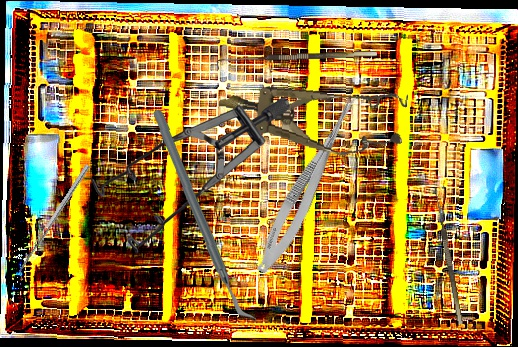Chopper: (148, 110, 260, 322)
Hook Surgical: (425, 185, 464, 327), (216, 50, 378, 71)
Micro Scissor: (250, 82, 367, 279)
Spatula Surgical: (13, 164, 95, 281)
Speculum: (89, 96, 295, 257), (214, 66, 409, 164)
